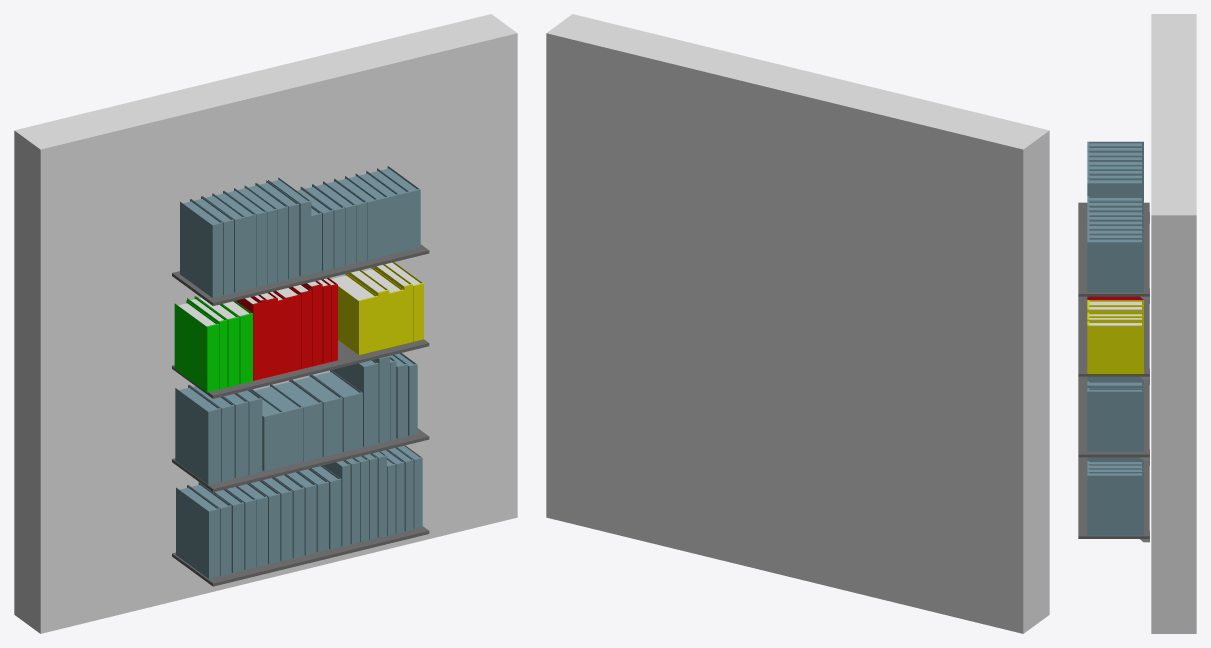
Rendered from bookshelf.dae.
3 renders of one model, left to right at view 1: azimuth 30°, elevation 25°; view 2: azimuth 150°, elevation 25°; view 3: azimuth 270°, elevation 25°, orthographic. The views are drawn at different scales.
Parts seen in each view (by area): view 1: wall, polySurface99, polySurface77, polySurface149, polySurface110, polySurface146, polySurface136, polySurface140, polySurface135, polySurface130, polySurface109, polySurface101 (+60 smaller); view 2: wall; view 3: wall, polySurface106, polySurface128, polySurface95, polySurface142, polySurface140, polySurface130, polySurface135, polySurface136, polySurface85, polySurface145, polySurface94 (+25 smaller).
Boxes of the visible parts, left/top/right/bottom form: wall: left=14, top=14, right=517, bottom=633; polySurface99: left=175, top=385, right=220, bottom=484; polySurface77: left=180, top=199, right=222, bottom=297; polySurface149: left=174, top=300, right=219, bottom=392; polySurface110: left=176, top=485, right=219, bottom=578; polySurface146: left=331, top=273, right=378, bottom=354; polySurface136: left=172, top=339, right=429, bottom=398; polySurface140: left=172, top=244, right=429, bottom=305; polySurface135: left=172, top=526, right=429, bottom=586; polySurface130: left=172, top=428, right=429, bottom=492; polySurface109: left=332, top=360, right=378, bottom=447; polySurface101: left=291, top=375, right=342, bottom=456; wall: left=546, top=14, right=1049, bottom=633; wall: left=1151, top=14, right=1196, bottom=633; polySurface106: left=1087, top=388, right=1143, bottom=451; polySurface128: left=1087, top=472, right=1143, bottom=535; polySurface95: left=1087, top=237, right=1143, bottom=292; polySurface142: left=1087, top=321, right=1143, bottom=373; polySurface140: left=1078, top=202, right=1149, bottom=296; polySurface130: left=1078, top=376, right=1149, bottom=457; polySurface135: left=1078, top=457, right=1149, bottom=538; polySurface136: left=1078, top=296, right=1149, bottom=376; polySurface85: left=1087, top=179, right=1143, bottom=196; polySurface145: left=1087, top=305, right=1143, bottom=312; polySurface94: left=1087, top=233, right=1143, bottom=242.
Bounding box in the file's own units: 55.21 × 53.56 × 13.69.
